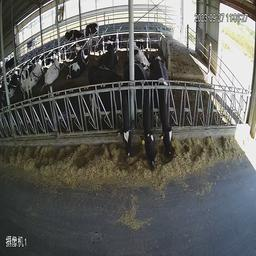cow: (83, 62, 133, 159), (127, 55, 158, 163), (152, 52, 174, 153), (65, 43, 89, 83), (15, 61, 35, 107), (38, 51, 63, 85), (96, 38, 122, 68), (81, 15, 102, 47), (134, 33, 153, 68), (57, 22, 81, 42)
